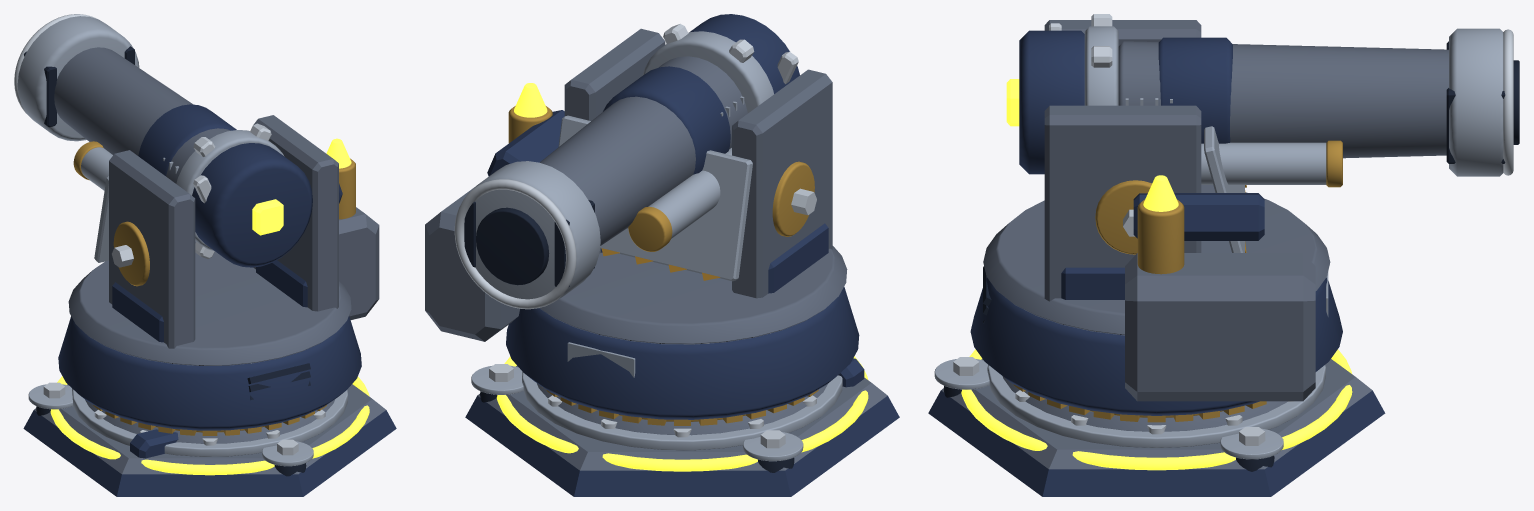
File: tower_nova_chassis.glb
3 renders of one model, left to right at view 1: azimuth 30°, elevation 25°; view 2: azimuth 150°, elevation 25°; view 3: azimuth 270°, elevation 25°, orthographic. The views are drawn at different scales.
Parts seen in each view (by area): view 1: nova_turret_drum, nova_turret_lip, nova_cradle_r, nova_breech_block, nova_barrel, nova_baseplate, nova_cradle_l, nova_muzzle_brake, nova_baseplate_bevel, nova_hopper, nova_flange, nova_seam (+17 smaller); view 2: nova_turret_drum, nova_turret_lip, nova_barrel, nova_cradle_r, nova_baseplate, nova_blast_shield, nova_muzzle_brake, nova_hopper, nova_baseplate_bevel, nova_flange, nova_barrel_jacket, nova_bore (+20 smaller); view 3: nova_hopper, nova_barrel, nova_cradle_l, nova_turret_drum, nova_baseplate, nova_turret_lip, nova_muzzle_brake, nova_baseplate_bevel, nova_breech_block, nova_barrel_jacket, nova_flange, nova_seam (+15 smaller).
Boxes of the visible parts, x1,y1,x2,y2 form: nova_turret_drum: (58,316,361,430); nova_turret_lip: (68,241,351,365); nova_cradle_r: (109,150,195,348); nova_breech_block: (192,143,312,267); nova_barrel: (54,47,230,183); nova_baseplate: (23,410,396,496); nova_cradle_l: (253,115,338,311); nova_muzzle_brake: (17,16,139,141); nova_baseplate_bevel: (34,384,385,474); nova_hopper: (339,207,379,319); nova_flange: (72,388,347,456); nova_seam: (50,376,369,475); nova_turret_drum: (506,287,859,419); nova_turret_lip: (539,246,847,344); nova_barrel: (540,56,747,245); nova_cradle_r: (732,69,832,298); nova_baseplate: (465,395,899,496); nova_blast_shield: (558,115,752,281); nova_muzzle_brake: (473,161,600,301); nova_hopper: (425,187,519,341); nova_baseplate_bevel: (477,365,887,470); nova_flange: (522,371,842,450); nova_barrel_jacket: (603,66,730,174); nova_bore: (476,207,549,285); nova_hopper: (1125,253,1315,401); nova_barrel: (1118,41,1448,158); nova_cradle_l: (1044,105,1201,301); nova_turret_drum: (970,277,1342,415); nova_baseplate: (928,390,1385,496); nova_turret_lip: (983,185,1330,335); nova_muzzle_brake: (1449,28,1503,176); nova_baseplate_bevel: (941,359,1372,469); nova_breech_block: (1019,30,1084,174); nova_barrel_jacket: (1158,37,1232,143); nova_flange: (987,365,1325,447); nova_seam: (961,349,1352,470).
Size of the model in its own units: 2.01 by 2 by 2.8.
